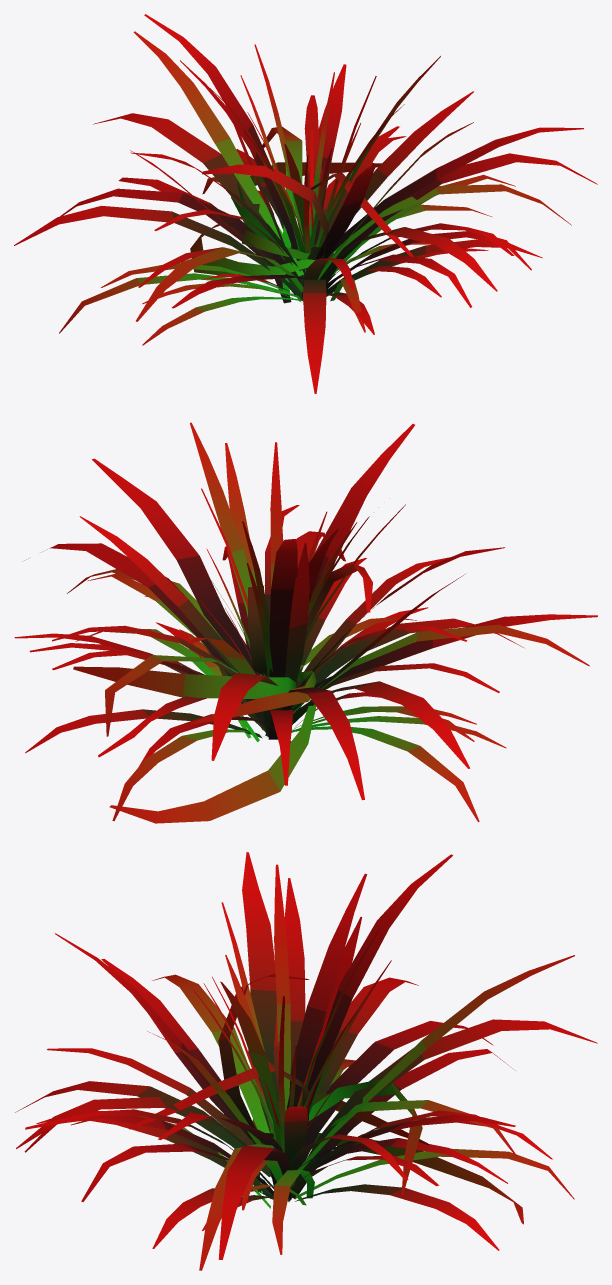
File: Ribbon Plant_LOD3_Var2_rhDrj.fbx
3 renders of one model, top to bottom at view 1: azimuth 30°, elevation 25°; view 2: azimuth 150°, elevation 25°; view 3: azimuth 270°, elevation 25°, orthographic. The views are drawn at different scales.
Visible parts, largest first — view 1: _6bb2_Var2_LOD3; view 2: _6bb2_Var2_LOD3; view 3: _6bb2_Var2_LOD3.
Part boxes in pixels (box(x1,y1,x2,y2)): _6bb2_Var2_LOD3: box(14, 14, 597, 393); _6bb2_Var2_LOD3: box(14, 422, 597, 823); _6bb2_Var2_LOD3: box(15, 852, 597, 1270).
Size of the model in its own units: 52.45 by 26.26 by 46.48.
